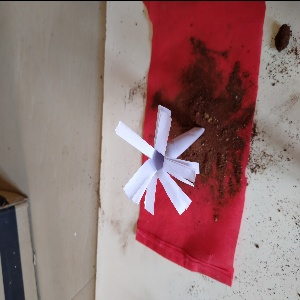weed: (103, 100, 203, 220)
